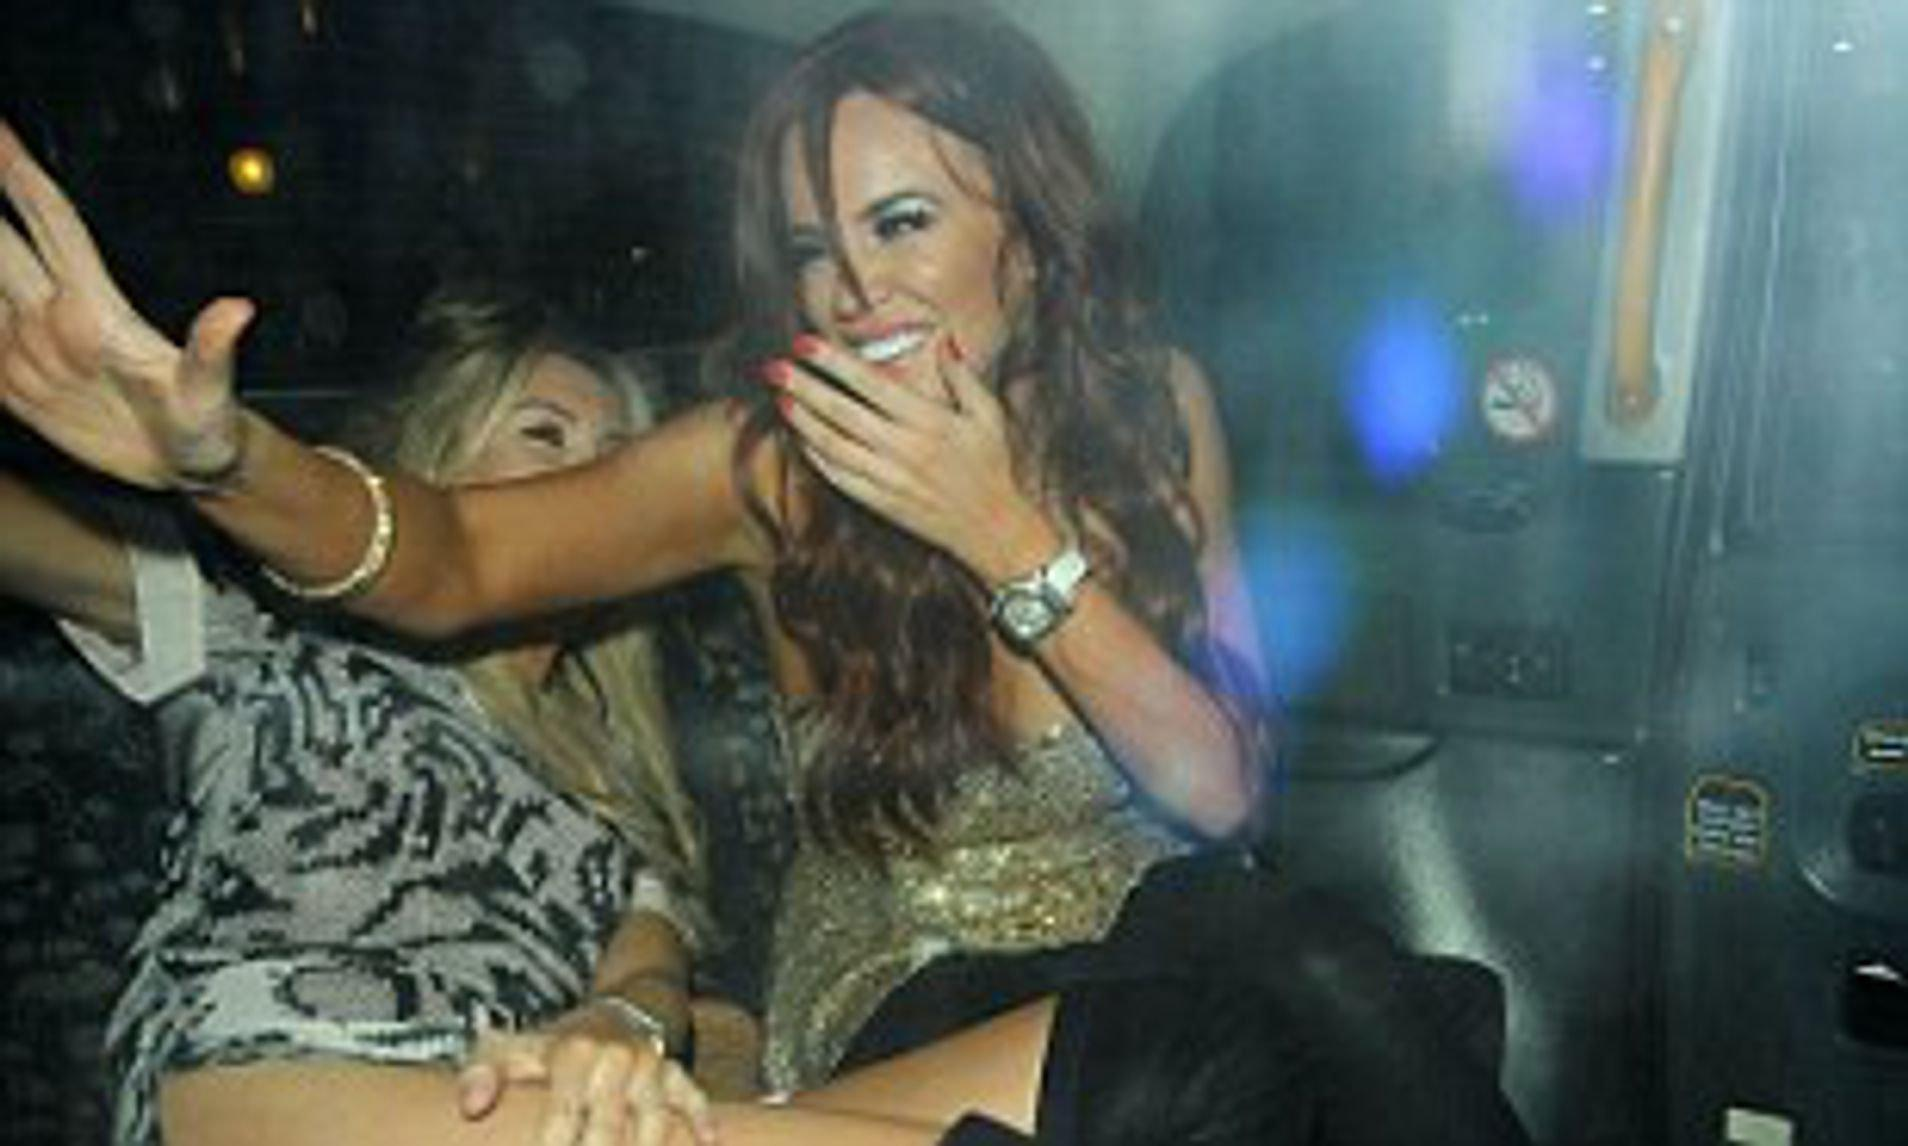Drunk: (773, 121, 994, 403)
